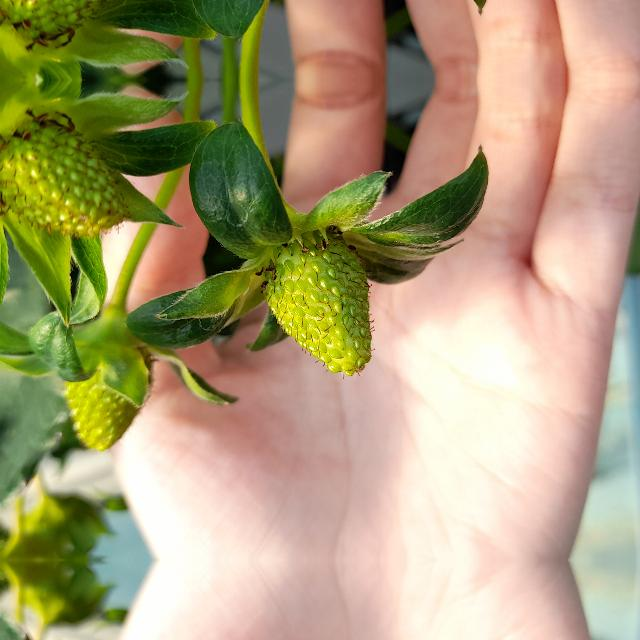Health_25: (261, 238, 375, 378), (0, 112, 124, 236), (59, 335, 155, 453), (0, 0, 124, 48)
